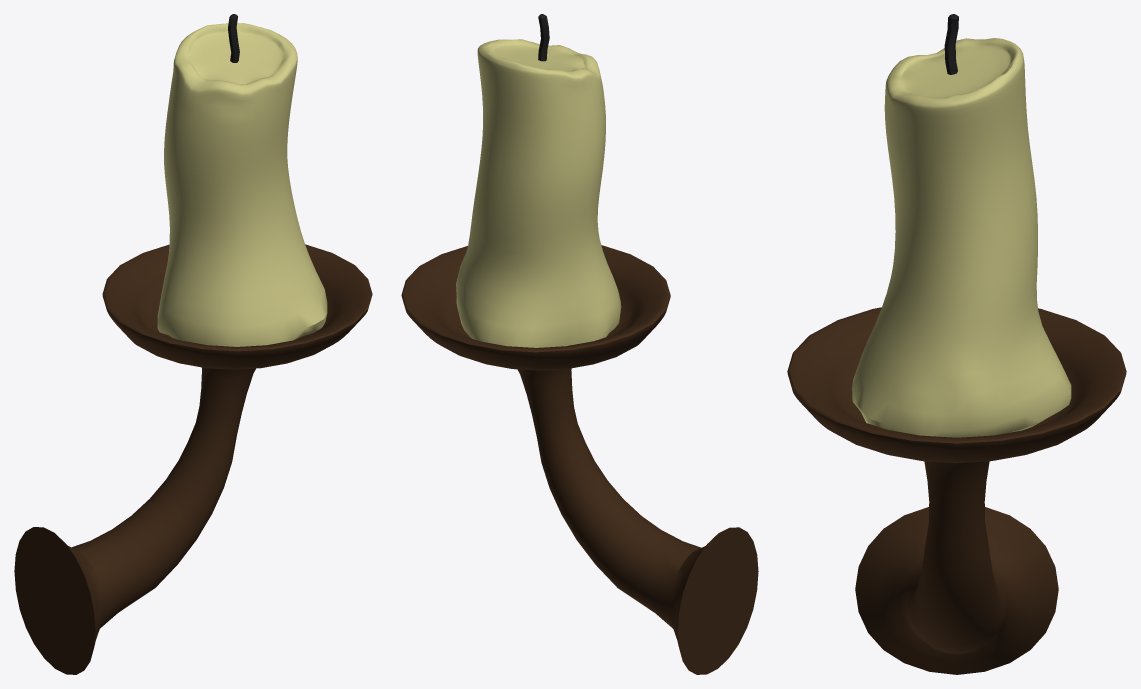
File: Candle wall_dani.fbx
The picture shows the model from 3 angles, left to right: view 1: azimuth 30°, elevation 25°; view 2: azimuth 150°, elevation 25°; view 3: azimuth 270°, elevation 25°; orthographic projection. The views are drawn at different scales.
Visible parts, largest first — view 1: candle_wall; view 2: candle_wall; view 3: candle_wall.
Boxes of the visible parts, box(x1,y1,x2,y2) form: candle_wall: box(14, 14, 372, 674); candle_wall: box(401, 14, 758, 674); candle_wall: box(787, 14, 1126, 674).
Bounding box in the file's own units: 15.24 × 29.65 × 11.86.
